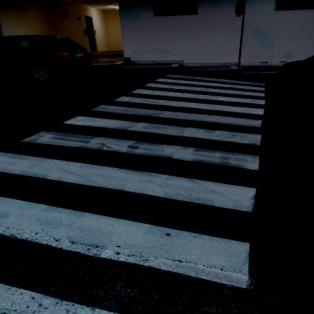Paso de Cebra: (7, 114, 273, 173), (128, 80, 272, 108)
